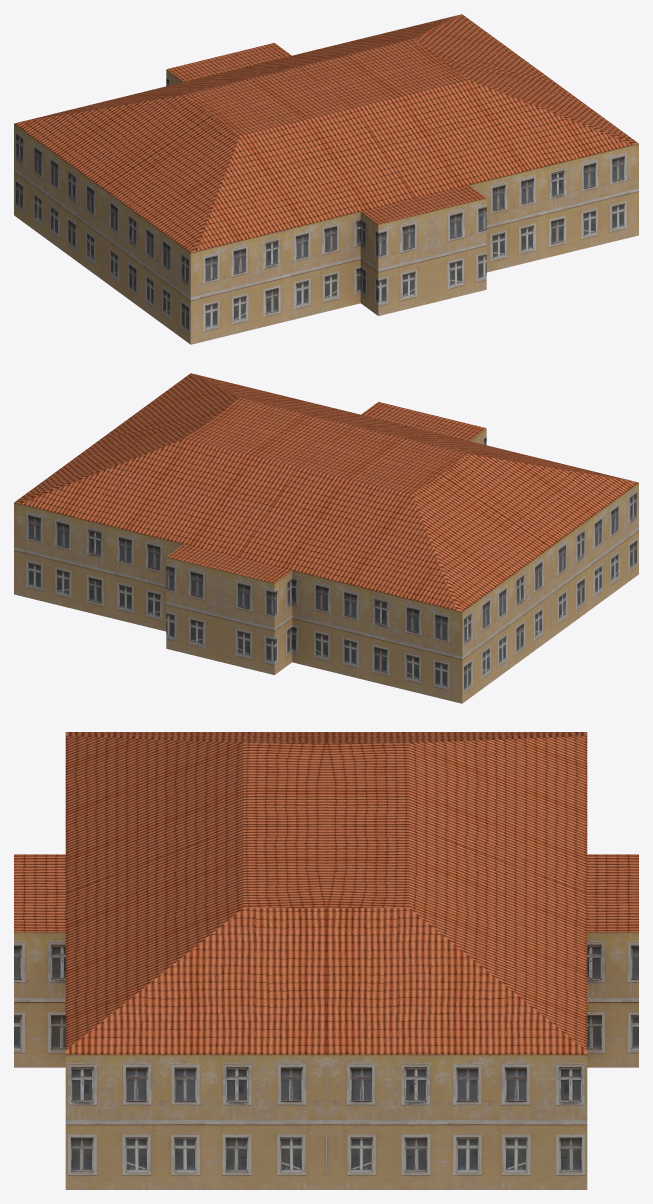
Rendered from Brick1.gltf.
3 renders of one model, top to bottom at view 1: azimuth 30°, elevation 25°; view 2: azimuth 150°, elevation 25°; view 3: azimuth 270°, elevation 25°, orthographic. The views are drawn at different scales.
Parts seen in each view (by area): view 1: Brick1; view 2: Brick1; view 3: Brick1.
Part boxes in pixels (left/top/right/bottom): Brick1: left=14, top=14, right=638, bottom=344; Brick1: left=14, top=373, right=638, bottom=703; Brick1: left=14, top=732, right=638, bottom=1189.
Bounding box in the file's own units: 51.07 × 15 × 41.84.
Materials: 1 (1 with a texture image).
